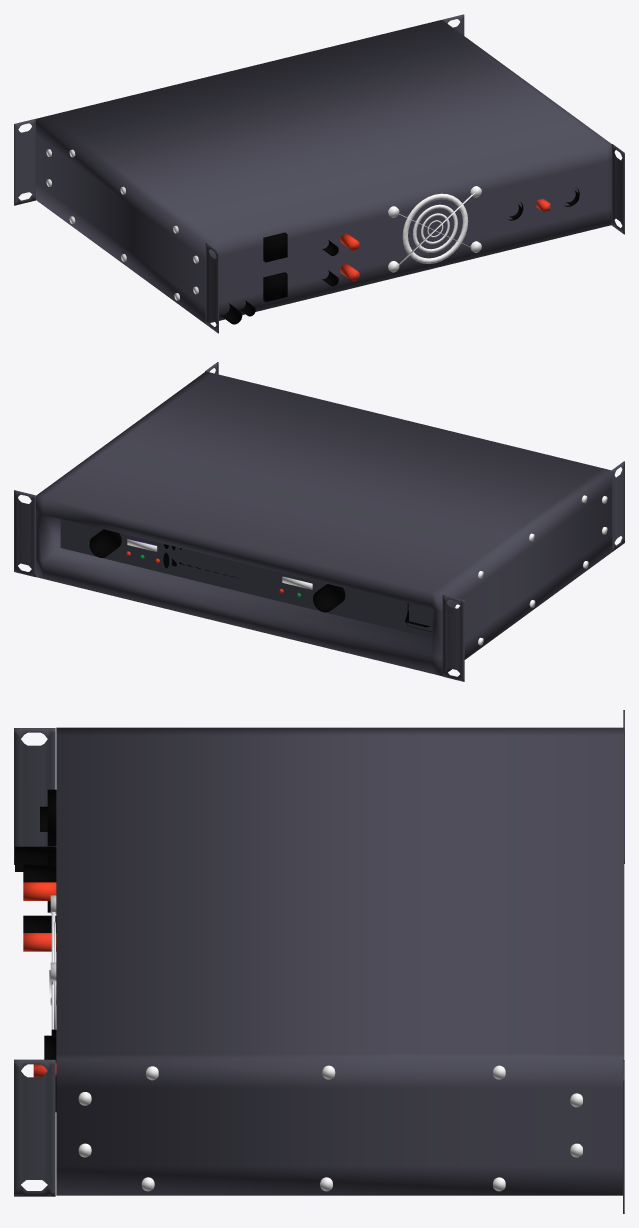
Rendered from AmplificadorSonido_MateoP_46956808.fbx.
3 renders of one model, top to bottom at view 1: azimuth 30°, elevation 25°; view 2: azimuth 150°, elevation 25°; view 3: azimuth 270°, elevation 25°, orthographic. The views are drawn at different scales.
Parts seen in each view (by area): view 1: amplificador; view 2: amplificador; view 3: amplificador.
Boxes of the visible parts, x1=… form: amplificador: x1=14, y1=14, x2=624, y2=333; amplificador: x1=14, y1=362, x2=624, y2=681; amplificador: x1=14, y1=710, x2=624, y2=1213.
Size of the model in its own units: 52.06 by 9.01 by 36.58.
Materials: 1 (1 with a texture image).
